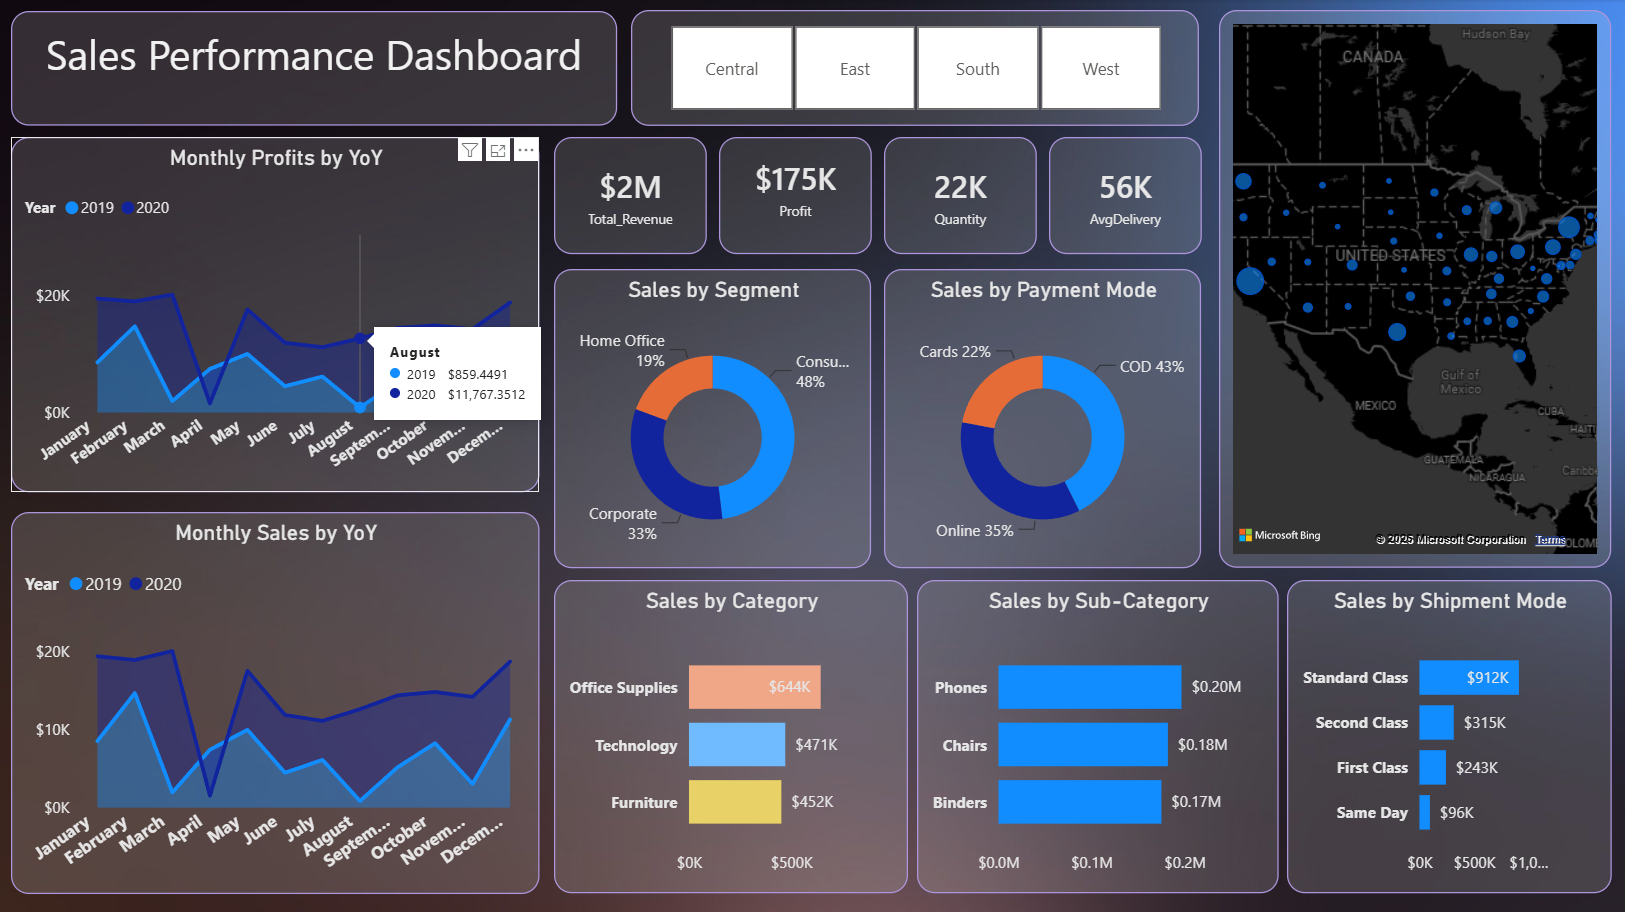

Layout of this report page (visuals, bound fields, positions):
{"tool":"powerbi","page":{"name":"Main Dashboard","canvas":[1280,720],"ordinal":0},"visuals":[{"type":"clusteredBarChart","title":"Sales by Category","fields":{"Category":["SuperStore_Sales_Dataset.Category"],"Y":["Sum(SuperStore_Sales_Dataset.Sales)"]},"box":[436.3,456.5,277.9,246.2],"z":0},{"type":"clusteredBarChart","title":"Sales by Sub-Category","fields":{"Category":["SuperStore_Sales_Dataset.Sub-Category"],"Y":["Sum(SuperStore_Sales_Dataset.Sales)"]},"box":[721.4,456.5,283.7,246.2],"z":1000},{"type":"clusteredBarChart","title":"Sales by Shipment Mode","fields":{"Category":["SuperStore_Sales_Dataset.Ship Mode"],"Y":["Sum(SuperStore_Sales_Dataset.Sales)"]},"box":[1012.3,456.5,254.9,246.2],"z":2000},{"type":"stackedAreaChart","title":"Monthly Sales by YoY","fields":{"Y":["Sum(SuperStore_Sales_Dataset.Profit)"],"Series":["SuperStore_Sales_Dataset.Order Date.Variation.Date Hierarchy.Year"],"Category":["SuperStore_Sales_Dataset.Order Date.Variation.Date Hierarchy.Month"]},"box":[10.1,403.2,414.7,299.5],"z":3000},{"type":"stackedAreaChart","title":"Monthly Profits by YoY","fields":{"Series":["SuperStore_Sales_Dataset.Order Date.Variation.Date Hierarchy.Year"],"Y":["Sum(SuperStore_Sales_Dataset.Profit)"],"Category":["SuperStore_Sales_Dataset.Order Date.Variation.Date Hierarchy.Month"]},"box":[10.1,108,414.7,279.4],"z":4000},{"type":"map","fields":{"Category":["SuperStore_Sales_Dataset.State"],"Size":["Sum(SuperStore_Sales_Dataset.Sales)"]},"box":[959,8.6,308.2,437.8],"z":5000},{"type":"donutChart","title":"Sales by Segment","fields":{"Category":["SuperStore_Sales_Dataset.Segment"],"Y":["Sum(SuperStore_Sales_Dataset.Sales)"]},"box":[436.3,211.7,249.1,234.7],"z":6000},{"type":"donutChart","title":"Sales by Payment Mode","fields":{"Category":["SuperStore_Sales_Dataset.Payment Mode"],"Y":["Sum(SuperStore_Sales_Dataset.Sales)"]},"box":[695.5,211.7,249.1,234.7],"z":7000},{"type":"slicer","fields":{"Values":["SuperStore_Sales_Dataset.Region"]},"box":[496.8,8.6,446.4,90.7],"z":8000},{"type":"textbox","box":[10.5,9.3,475.6,90],"z":9000},{"type":"cardVisual","fields":{"Data":["Measurements.Total_Revenue"]},"box":[436.3,108,120,92.2],"z":10000},{"type":"cardVisual","fields":{"Data":["Sum(SuperStore_Sales_Dataset.AvgDelivery)"]},"box":[825.1,108,120,92.2],"z":11000},{"type":"cardVisual","fields":{"Data":["Sum(SuperStore_Sales_Dataset.Quantity)"]},"box":[695.5,108,120,92.2],"z":12000},{"type":"cardVisual","fields":{"Data":["Sum(SuperStore_Sales_Dataset.Profit)"]},"box":[565.9,108,120,92.2],"z":13000}]}

Visuals, with their boxes in screenshot pixels (x1, y1, x2, y2), scaled from the page's 1280x720 canvas onto the 1625x912 screenshot:
"Sales by Category" clusteredBarChart: 554, 578, 907, 890
"Sales by Sub-Category" clusteredBarChart: 916, 578, 1276, 890
"Sales by Shipment Mode" clusteredBarChart: 1285, 578, 1609, 890
"Monthly Sales by YoY" stackedAreaChart: 13, 511, 539, 890
"Monthly Profits by YoY" stackedAreaChart: 13, 137, 539, 491
map - SuperStore_Sales_Dataset.State x Sum(SuperStore_Sales_Dataset.Sales): 1217, 11, 1609, 565
"Sales by Segment" donutChart: 554, 268, 870, 565
"Sales by Payment Mode" donutChart: 883, 268, 1199, 565
slicer - SuperStore_Sales_Dataset.Region: 631, 11, 1197, 126
textbox: 13, 12, 617, 126
cardVisual - Measurements.Total_Revenue: 554, 137, 706, 254
cardVisual - Sum(SuperStore_Sales_Dataset.AvgDelivery): 1047, 137, 1200, 254
cardVisual - Sum(SuperStore_Sales_Dataset.Quantity): 883, 137, 1035, 254
cardVisual - Sum(SuperStore_Sales_Dataset.Profit): 718, 137, 871, 254
